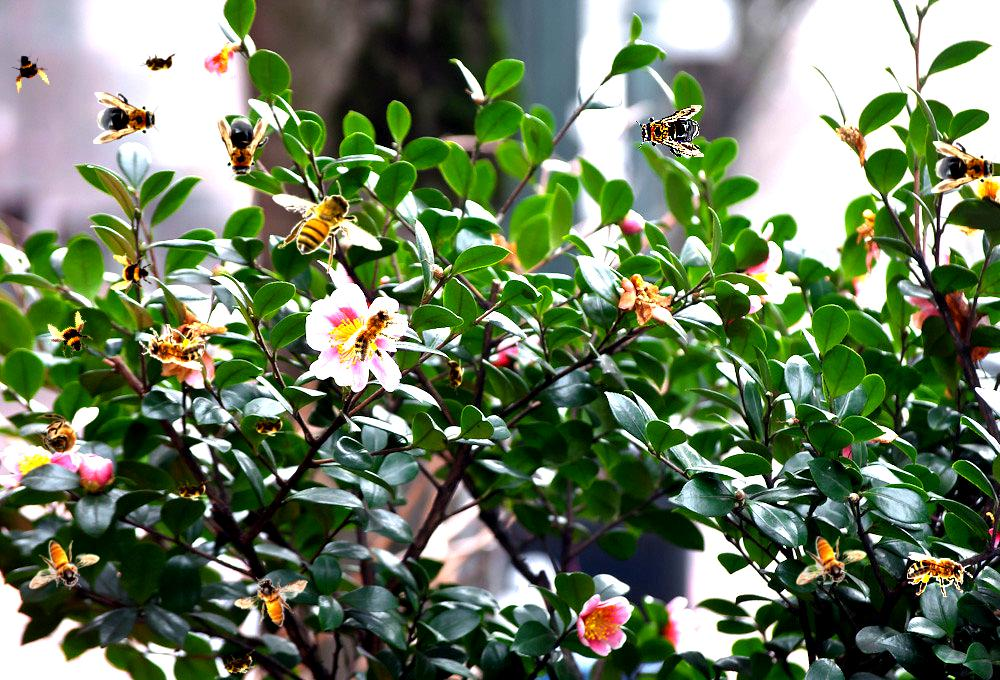Bee: (272, 180, 383, 274), (340, 292, 414, 373), (232, 571, 308, 630), (29, 407, 99, 468), (634, 104, 706, 162), (40, 307, 100, 367), (29, 540, 100, 590), (796, 536, 867, 586), (931, 141, 999, 193), (93, 92, 161, 144), (217, 113, 269, 181), (137, 322, 207, 371), (1, 41, 59, 99), (907, 552, 973, 597), (110, 253, 154, 297), (216, 648, 260, 680), (171, 479, 211, 501), (139, 52, 179, 74), (443, 355, 465, 395), (248, 415, 288, 437)
